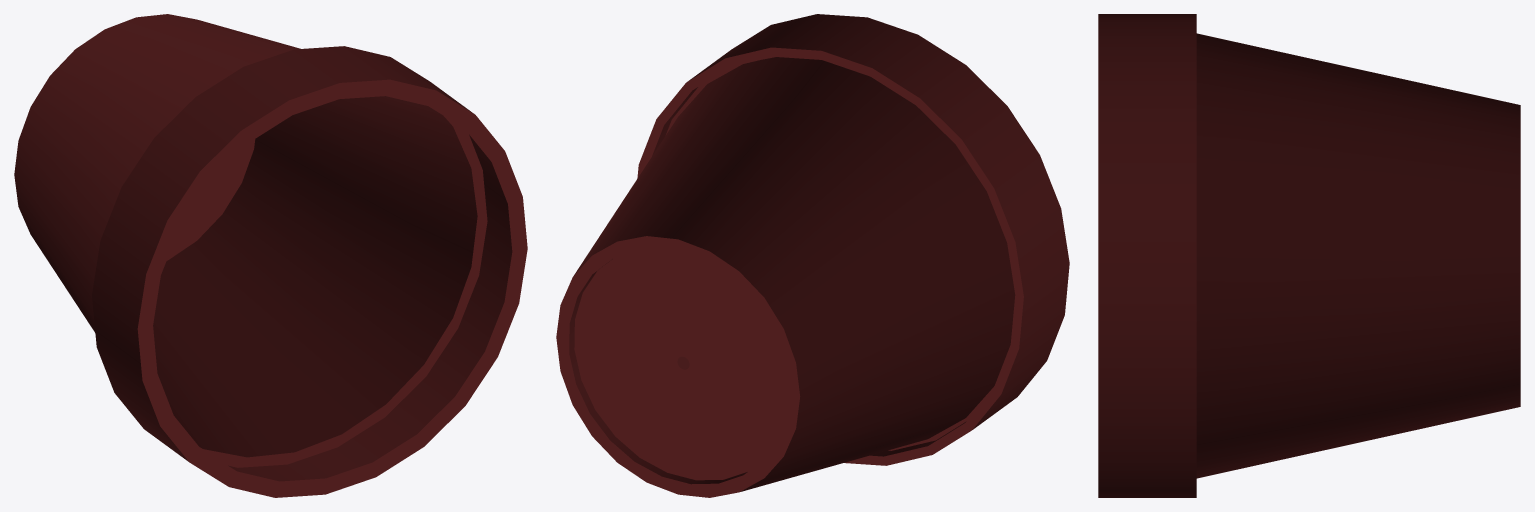
The model's file is model_align.obj.
The picture shows the model from 3 angles, left to right: view 1: azimuth 30°, elevation 25°; view 2: azimuth 150°, elevation 25°; view 3: azimuth 270°, elevation 25°; orthographic projection. The views are drawn at different scales.
Visible parts, largest first — view 1: mesh1_mesh1-geometry, mesh2_mesh2-geometry; view 2: mesh1_mesh1-geometry, mesh2_mesh2-geometry; view 3: mesh1_mesh1-geometry, mesh2_mesh2-geometry.
Boxes of the visible parts, <box> form: mesh1_mesh1-geometry: <box>14,14,487,467</box>; mesh2_mesh2-geometry: <box>92,46,527,497</box>; mesh1_mesh1-geometry: <box>556,57,1015,497</box>; mesh2_mesh2-geometry: <box>637,14,1069,465</box>; mesh1_mesh1-geometry: <box>1196,33,1520,478</box>; mesh2_mesh2-geometry: <box>1098,14,1196,497</box>.
Size of the model in its own units: 0.0883 by 0.0883 by 0.077.
